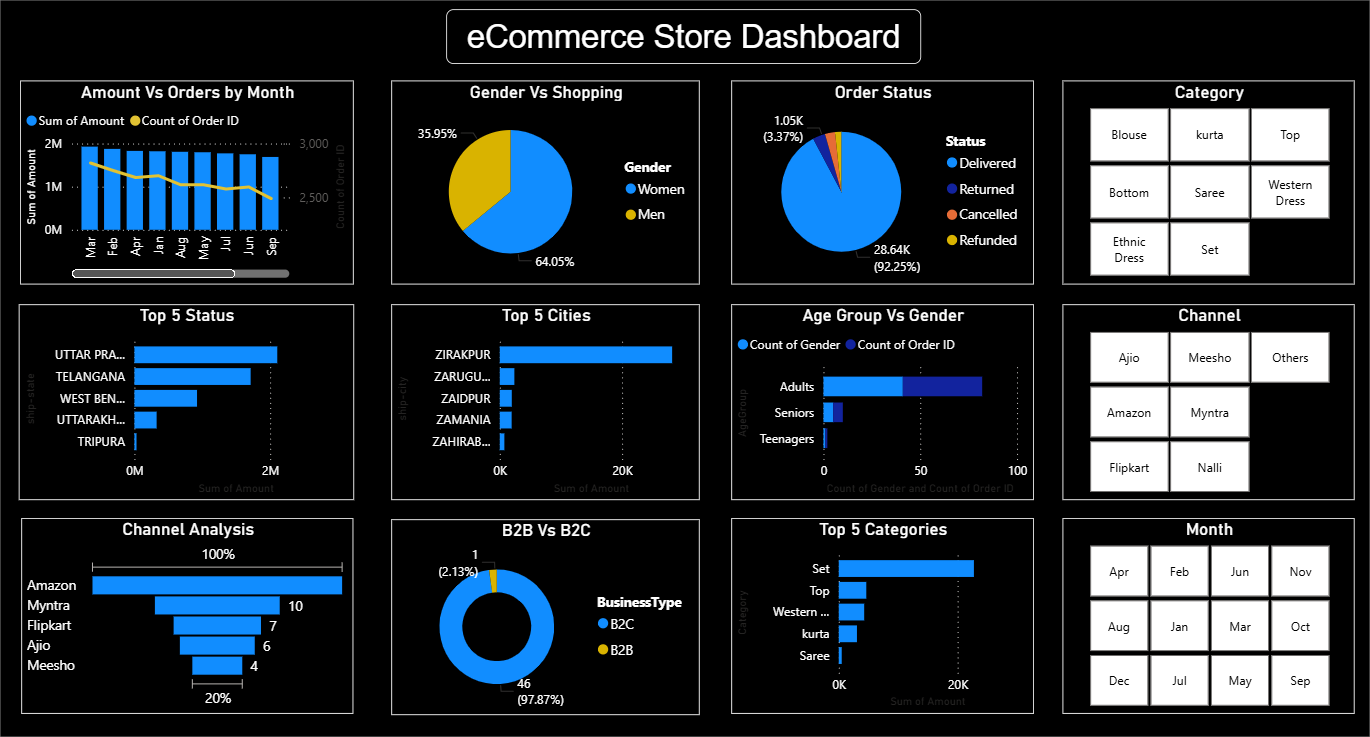

The dashboard page shown, as its layout file describes it:
{"tool":"powerbi","page":{"name":"Page 1","canvas":[1349,731],"ordinal":0},"visuals":[{"type":"textbox","box":[437.5,11,465.7,53.9],"z":0},{"type":"lineClusteredColumnComboChart","title":"Amount Vs Orders by Month","fields":{"Category":["MyStore.Month"],"Y":["Sum(MyStore.Amount)"],"Y2":["CountNonNull(MyStore.Order ID)"]},"box":[19.6,80.9,327.2,199.8],"z":1000},{"type":"pieChart","title":"Gender Vs Shopping","fields":{"Category":["MyStore.Gender"],"Y":["Sum(MyStore.Amount)"]},"box":[383.6,80.9,302.7,199.8],"z":2000},{"type":"pieChart","title":"Order Status","fields":{"Y":["CountNonNull(MyStore.Order ID)"],"Category":["MyStore.Status"]},"box":[716.9,80.9,296.6,199.8],"z":3000},{"type":"barChart","title":"Top 5 Status","fields":{"Y":["Sum(MyStore.Amount)"],"Category":["MyStore.ship-state"]},"box":[18.4,300.2,328.4,192.4],"z":4000},{"type":"barChart","title":"Top 5 Cities","fields":{"Y":["Sum(MyStore.Amount)"],"Category":["MyStore.ship-city"]},"box":[383.6,300.2,302.7,192.4],"z":5000},{"type":"barChart","title":"Age Group Vs Gender","fields":{"Y":["CountNonNull(MyStore.Gender)","CountNonNull(MyStore.Order ID)"],"Category":["MyStore.AgeGroup"]},"box":[716.9,300.2,296.6,192.4],"z":6000},{"type":"funnel","title":"Channel Analysis","fields":{"Category":["MyStore.Channel "],"Y":["CountNonNull(MyStore.Order ID)"]},"box":[20.8,509.8,326,192.4],"z":7000},{"type":"clusteredBarChart","title":"Top 5 Categories","fields":{"Category":["MyStore.Category"],"Y":["Sum(MyStore.Amount)"]},"box":[716.9,509.8,296.6,192.4],"z":8000},{"type":"donutChart","title":"B2B Vs B2C","fields":{"Category":["MyStore.BusinessType"],"Y":["CountNonNull(MyStore.Order ID)"]},"box":[383.6,511,302.7,192.4],"z":9000},{"type":"slicer","title":"Category","fields":{"Values":["MyStore.Category"]},"box":[1041.7,80.9,286.8,199.8],"z":10000},{"type":"slicer","title":"Channel","fields":{"Values":["MyStore.Channel "]},"box":[1041.7,300.2,286.8,192.4],"z":11000},{"type":"slicer","title":"Month","fields":{"Values":["MyStore.Month"]},"box":[1041.7,509.8,286.8,192.4],"z":12000}]}

Visuals, with their boxes in screenshot pixels (x1, y1, x2, y2), scaled from the page's 1349x731 canvas onto the 1370x737 screenshot:
textbox: x1=444 y1=11 x2=917 y2=65
"Amount Vs Orders by Month" lineClusteredColumnComboChart: x1=20 y1=82 x2=352 y2=283
"Gender Vs Shopping" pieChart: x1=390 y1=82 x2=697 y2=283
"Order Status" pieChart: x1=728 y1=82 x2=1029 y2=283
"Top 5 Status" barChart: x1=19 y1=303 x2=352 y2=497
"Top 5 Cities" barChart: x1=390 y1=303 x2=697 y2=497
"Age Group Vs Gender" barChart: x1=728 y1=303 x2=1029 y2=497
"Channel Analysis" funnel: x1=21 y1=514 x2=352 y2=708
"Top 5 Categories" clusteredBarChart: x1=728 y1=514 x2=1029 y2=708
"B2B Vs B2C" donutChart: x1=390 y1=515 x2=697 y2=709
"Category" slicer: x1=1058 y1=82 x2=1349 y2=283
"Channel" slicer: x1=1058 y1=303 x2=1349 y2=497
"Month" slicer: x1=1058 y1=514 x2=1349 y2=708
